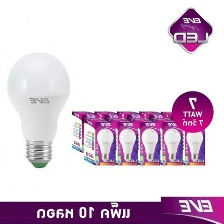carton: (80, 117, 119, 167), (105, 116, 142, 166), (127, 116, 163, 167), (88, 105, 125, 149), (134, 109, 170, 152), (155, 118, 186, 166), (69, 107, 101, 153), (113, 106, 147, 149), (181, 122, 208, 167)
light_bulb: (2, 45, 76, 174)
